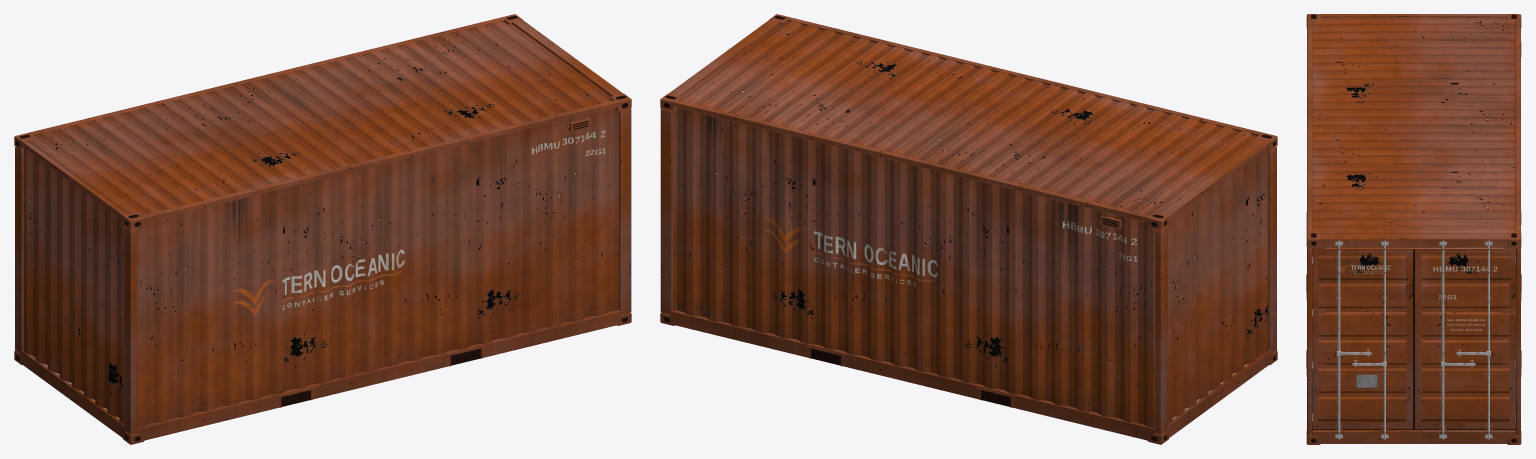
Rendered from container20.glb.
3 renders of one model, left to right at view 1: azimuth 30°, elevation 25°; view 2: azimuth 150°, elevation 25°; view 3: azimuth 270°, elevation 25°, orthographic. The views are drawn at different scales.
Parts seen in each view (by area): view 1: container20; view 2: container20; view 3: container20.
Part boxes in pixels (x1=…): container20: x1=14, y1=14, x2=631, y2=444; container20: x1=660, y1=14, x2=1277, y2=444; container20: x1=1306, y1=14, x2=1521, y2=444.
Bounding box in the file's own units: 6.07 × 2.59 × 2.45.
10 materials, 10 textured.
